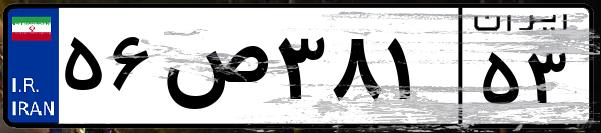1: (385, 28, 445, 110)
3: (270, 28, 330, 110), (525, 38, 570, 115)
5: (57, 26, 110, 100), (475, 38, 525, 113)
6: (110, 28, 158, 98)
8: (330, 28, 385, 110)
ص: (158, 20, 270, 120)
